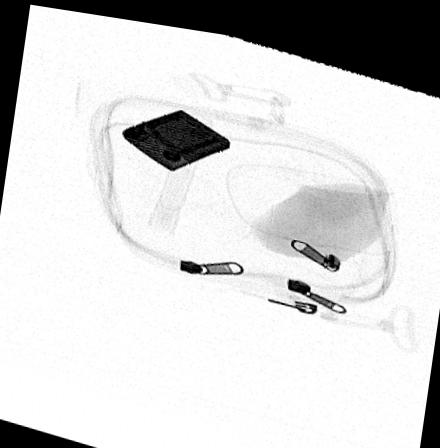Lighter: (121, 103, 231, 166)
